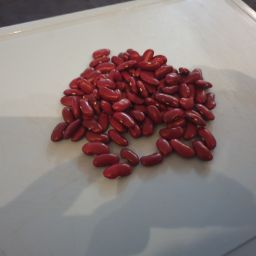Pinto Beans (kidney beans): (38, 34, 232, 187), (52, 47, 237, 181), (156, 133, 212, 169), (180, 85, 218, 123), (52, 119, 89, 153), (52, 70, 91, 100), (126, 148, 164, 172), (139, 48, 174, 73), (84, 42, 115, 68), (100, 165, 133, 178)
